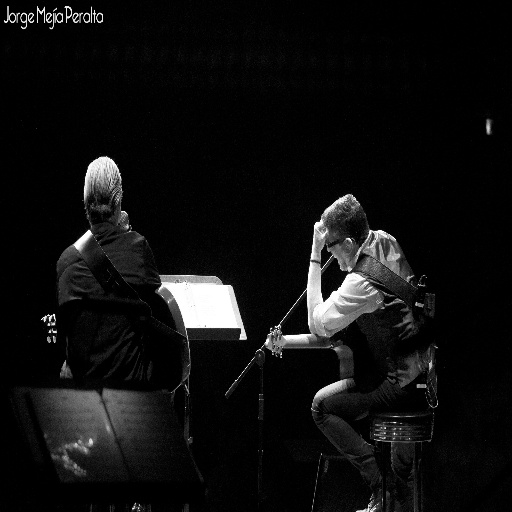hand: (313, 218, 329, 252)
